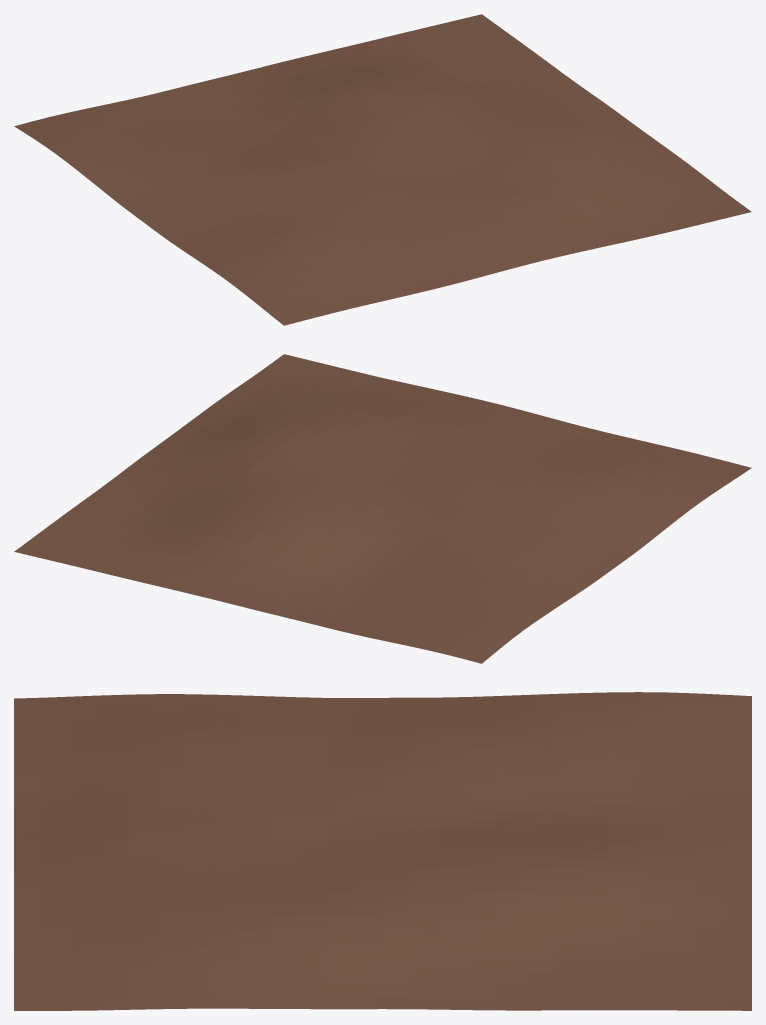
The picture shows the model from 3 angles, top to bottom: view 1: azimuth 30°, elevation 25°; view 2: azimuth 150°, elevation 25°; view 3: azimuth 270°, elevation 25°; orthographic projection. The views are drawn at different scales.
Parts seen in each view (by area): view 1: Ground; view 2: Ground; view 3: Ground.
Boxes of the visible parts, x1,y1,x2,y2 form: Ground: [14, 14, 751, 325]; Ground: [14, 354, 751, 663]; Ground: [14, 692, 751, 1010].
Size of the model in its own units: 200 by 7.26 by 200.
